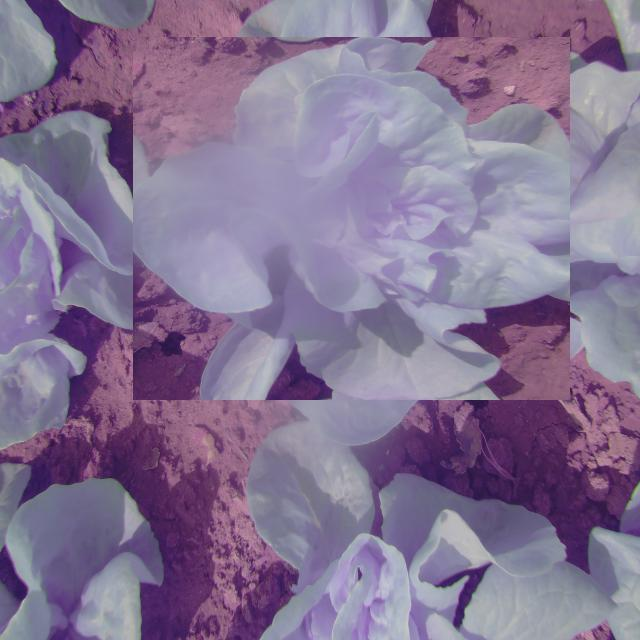vege: (151, 18, 551, 419)
